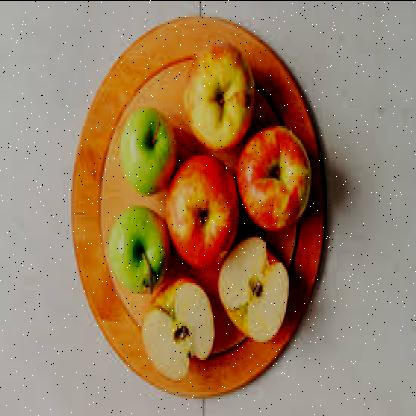apple: (185, 36, 257, 148), (165, 148, 233, 266), (236, 123, 308, 227), (118, 104, 174, 198), (109, 198, 165, 291)
damaged_apple: (218, 238, 289, 350), (144, 280, 216, 372)
